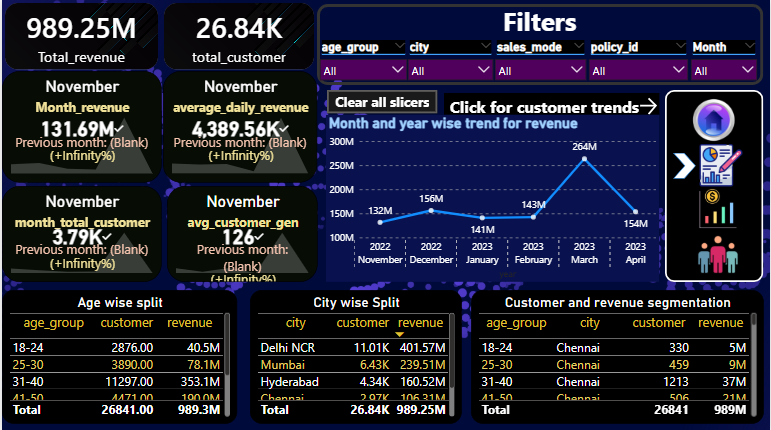

The dashboard page shown, as its layout file describes it:
{"tool":"powerbi","page":{"name":"General view","canvas":[1280,720],"ordinal":1},"visuals":[{"type":"kpi","fields":{"Indicator":["Measure.Total_revenue"],"Goal":["Measure.PreviousMonthRevenue"],"TrendLine":["dim_date.month"]},"box":[236.7,187.5,249.4,143],"z":0,"group":"g1"},{"type":"lineChart","title":"Month and year wise trend for revenue","fields":{"Category":["dim_month.month","dim_date.year"],"Y":["Measure.Total_revenue"]},"box":[780.9,189.9,498.9,286.3],"z":1000},{"type":"kpi","fields":{"Goal":["Measure.Previous_month_customer"],"Indicator":["Measure.total_customer"],"TrendLine":["dim_date.month"]},"box":[238.1,336.8,245.2,143],"z":1000,"group":"g1"},{"type":"actionButton","box":[968,146,311.8,41.1],"z":2000},{"type":"kpi","fields":{"Indicator":["Measure.avg_revenue"],"TrendLine":["dim_date.month"],"Goal":["Measure.Pre_month_avg_revenue"]},"box":[492.2,187.3,283.2,143.8],"z":2000,"group":"g1"},{"type":"kpi","fields":{"Goal":["Measure.Pre_month_cistomer_gen"],"Indicator":["Measure.avg_customer_gen"],"TrendLine":["dim_date.month"]},"box":[491.8,336.8,283.5,143],"z":3000,"group":"g1"},{"type":"shape","box":[0,5.5,882.7,136.4],"z":4000},{"type":"tableEx","title":"Age wise split","fields":{"Values":["dim_customers.age_group","Measure.total_customer","Sum(fact_premiums.final_premium_amt(INR))"]},"box":[0,482.9,399.6,198.1],"z":4000,"group":"g2"},{"type":"slicer","fields":{"Values":["dim_policies.policy_id"]},"box":[571.1,61.9,159.4,80.5],"z":5000},{"type":"tableEx","title":"City wise Split","fields":{"Values":["dim_customers.city","Measure.total_customer","Measure.Total_revenue"]},"box":[409.5,482.9,365.6,198.1],"z":5000,"group":"g2"},{"type":"actionButton","box":[780.9,146,184.3,41.1],"z":6000},{"type":"tableEx","title":"Customer and revenue segmentation","fields":{"Values":["dim_Age_group.age_group","dim_customers.city","dim_customers.customer_code","Sum(fact_premiums.final_premium_amt(INR))"]},"box":[780.7,482.9,498.8,196.8],"z":6000,"group":"g2"},{"type":"slicer","fields":{"Values":["fact_premiums.sales_mode"]},"box":[414.2,62.4,171.7,90],"z":7000},{"type":"shape","box":[889.1,5.5,390.9,136.4],"z":8000},{"type":"slicer","fields":{"Values":["dim_city.city"]},"box":[269.2,62.4,161.7,80],"z":9000},{"type":"image","box":[887.1,34.3,95.7,80],"z":10000},{"type":"slicer","fields":{"Values":["dim_Age_group.age_group"]},"box":[133.1,63.5,153.2,77.4],"z":11000},{"type":"image","box":[978.6,35.7,88.6,81.4],"z":12000},{"type":"textbox","box":[444.1,0,150,66.7],"z":13000},{"type":"image","box":[1087.1,40,80,71.4],"z":14000},{"type":"slicer","fields":{"Values":["dim_month.month"]},"box":[730.5,61.9,151.7,83.6],"z":15000},{"type":"image","box":[1178.6,42.9,78.6,67.1],"z":16000},{"type":"shape","box":[997.1,108.6,38.6,31.4],"z":17000},{"type":"image","box":[21.3,5.7,112,129],"z":18000},{"type":"cardVisual","fields":{"Data":["Measure.BM Message"]},"box":[0,134.5,774.9,65.1],"z":19000},{"type":"group","id":"g1","title":"Group 1","box":[0,187.3,775.4,292.5],"z":20000},{"type":"group","id":"g2","title":"Group 2","box":[0,482.9,1279.5,198.1],"z":21000},{"type":"textbox","box":[0,683.6,1279.1,35.5],"z":22000},{"type":"cardVisual","fields":{"Data":["Table.Total_revenue"]},"box":[0,187.3,234.3,142.9],"z":27000,"group":"g1"},{"type":"cardVisual","fields":{"Data":["Measure.total_customer"]},"box":[0,336.5,234.3,142.9],"z":28000,"group":"g1"}]}

Visuals, with their boxes in screenshot pixels (x1, y1, x2, y2), scaled from the page's 1280x720 canvas onto the 771x430 screenshot:
kpi - Measure.Total_revenue x Measure.PreviousMonthRevenue: BBox(143, 112, 293, 197)
"Month and year wise trend for revenue" lineChart: BBox(470, 113, 770, 284)
kpi - Measure.Previous_month_customer x Measure.total_customer: BBox(143, 201, 291, 287)
actionButton: BBox(583, 87, 770, 112)
kpi - Measure.avg_revenue x dim_date.month: BBox(296, 112, 467, 198)
kpi - Measure.Pre_month_cistomer_gen x Measure.avg_customer_gen: BBox(296, 201, 467, 287)
shape: BBox(0, 3, 532, 85)
"Age wise split" tableEx: BBox(0, 288, 241, 407)
slicer - dim_policies.policy_id: BBox(344, 37, 440, 85)
"City wise Split" tableEx: BBox(247, 288, 467, 407)
actionButton: BBox(470, 87, 581, 112)
"Customer and revenue segmentation" tableEx: BBox(470, 288, 770, 406)
slicer - fact_premiums.sales_mode: BBox(249, 37, 353, 91)
shape: BBox(536, 3, 770, 85)
slicer - dim_city.city: BBox(162, 37, 260, 85)
image: BBox(534, 20, 592, 68)
slicer - dim_Age_group.age_group: BBox(80, 38, 172, 84)
image: BBox(589, 21, 643, 70)
textbox: BBox(268, 0, 358, 40)
image: BBox(655, 24, 703, 67)
slicer - dim_month.month: BBox(440, 37, 531, 87)
image: BBox(710, 26, 757, 66)
shape: BBox(601, 65, 624, 84)
image: BBox(13, 3, 80, 80)
cardVisual - Measure.BM Message: BBox(0, 80, 467, 119)
"Group 1" group: BBox(0, 112, 467, 287)
"Group 2" group: BBox(0, 288, 770, 407)
textbox: BBox(0, 408, 770, 429)
cardVisual - Table.Total_revenue: BBox(0, 112, 141, 197)
cardVisual - Measure.total_customer: BBox(0, 201, 141, 286)
